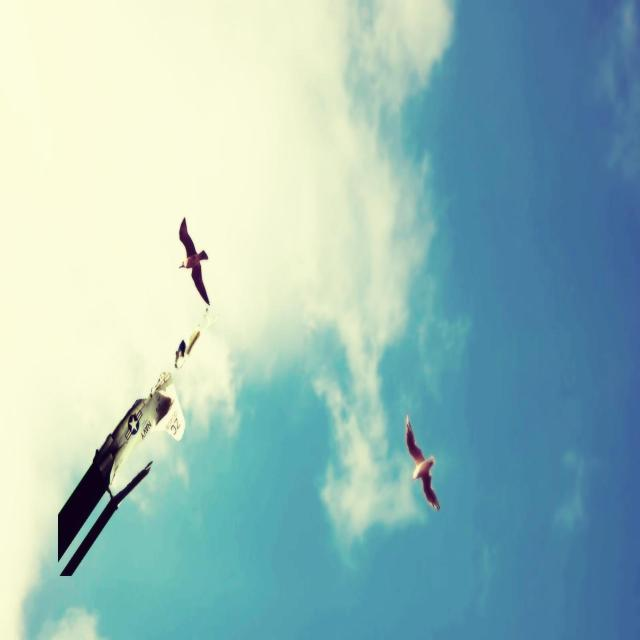airplane: (57, 369, 185, 577)
